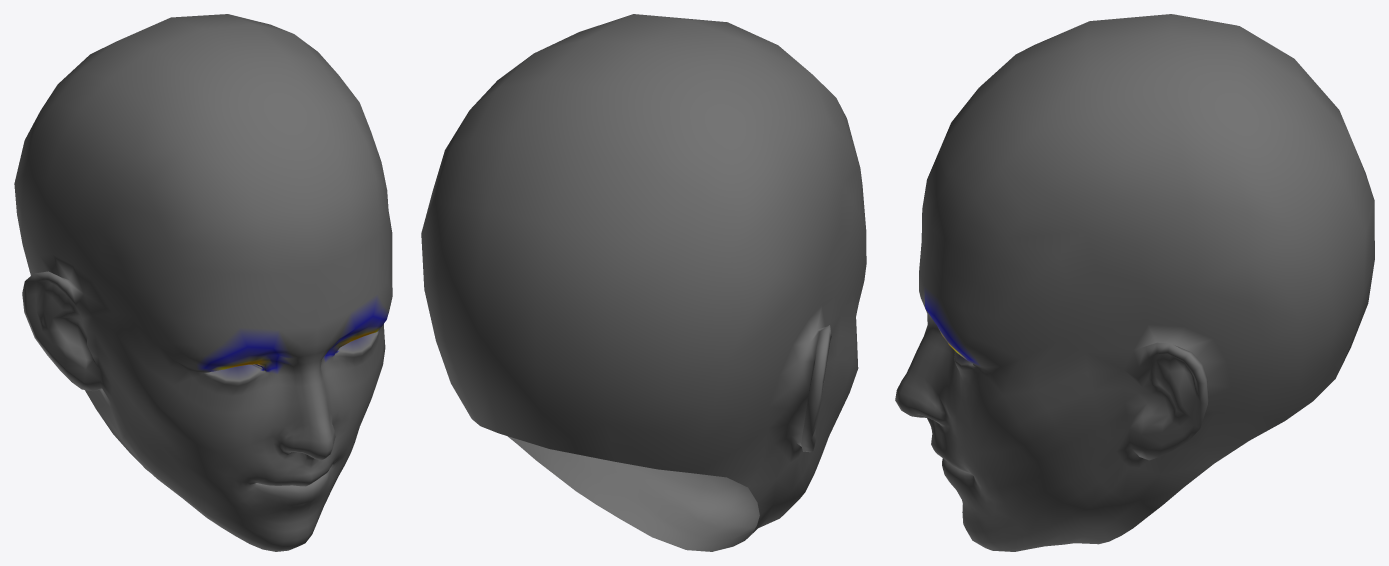
File: FaceAndHelper.fbx
3 renders of one model, left to right at view 1: azimuth 30°, elevation 25°; view 2: azimuth 150°, elevation 25°; view 3: azimuth 270°, elevation 25°, orthographic. The views are drawn at different scales.
Visible parts, largest first — view 1: Face01; view 2: Face01; view 3: Face01.
Part boxes in pixels (<box>): Face01: <box>14,14,392,551</box>; Face01: <box>421,14,866,551</box>; Face01: <box>895,14,1374,551</box>.
Bounding box in the file's own units: 14.93 × 19.81 × 16.84.
